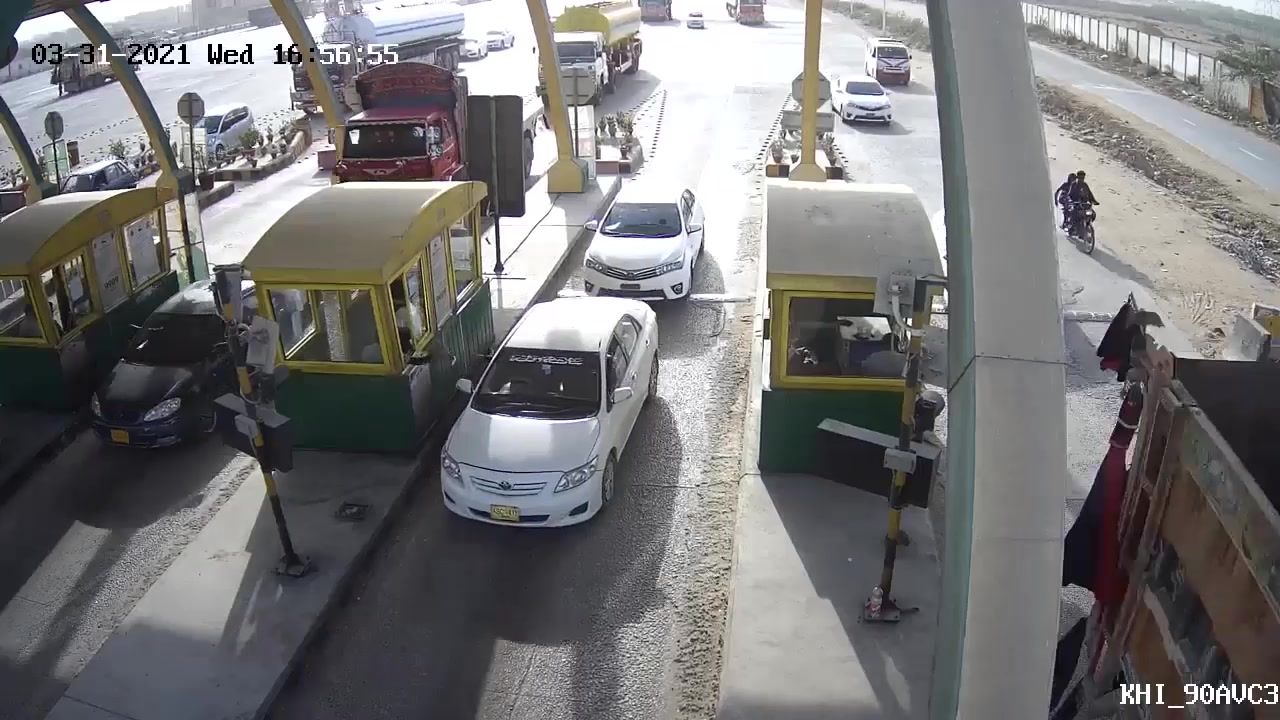F1: (437, 300, 665, 555), (556, 173, 713, 292)
